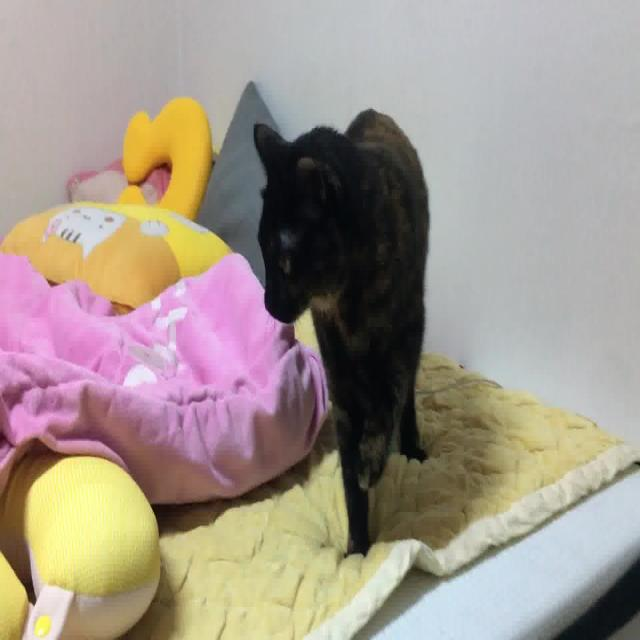cat: (252, 104, 433, 562)
